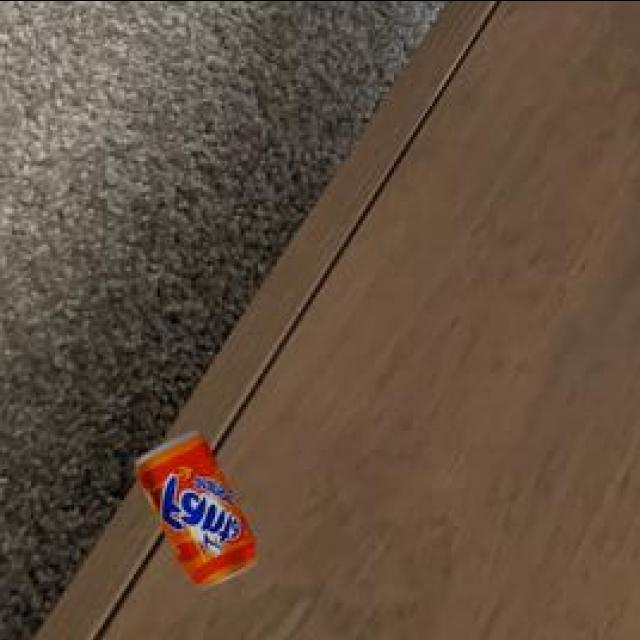logam: (140, 436, 259, 591)
